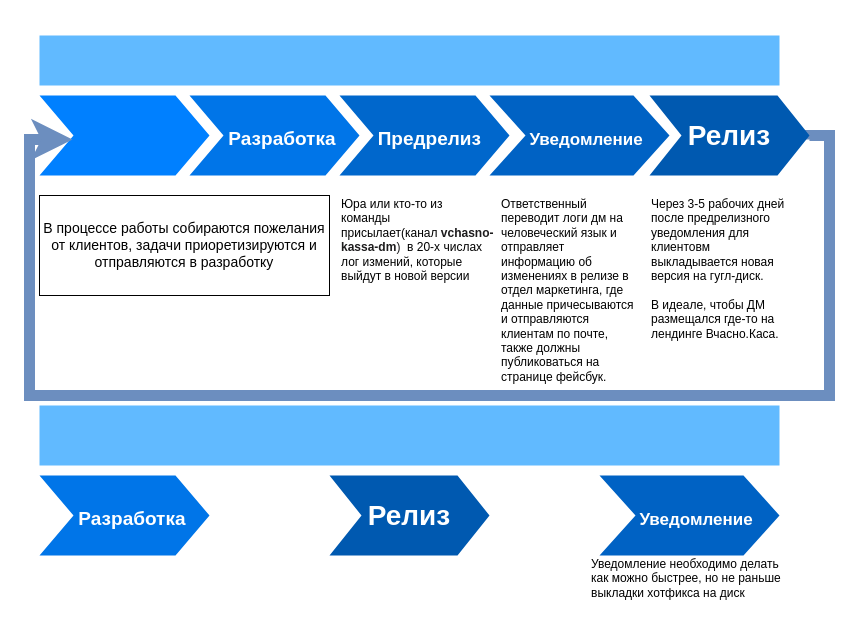
Image size: 860x622. Some labels were removed from this diagram. The centre of each missing label's shape, as x and y in pixels:
"HOTFIX" goes at pixel 409 435.
"Standart FLOW" goes at pixel 409 60.
"Приоретизация задач" goes at pixel 124 135.
